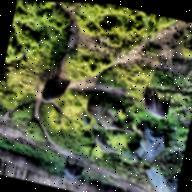boar: (40, 65, 73, 110), (140, 85, 172, 121), (62, 157, 85, 181)
